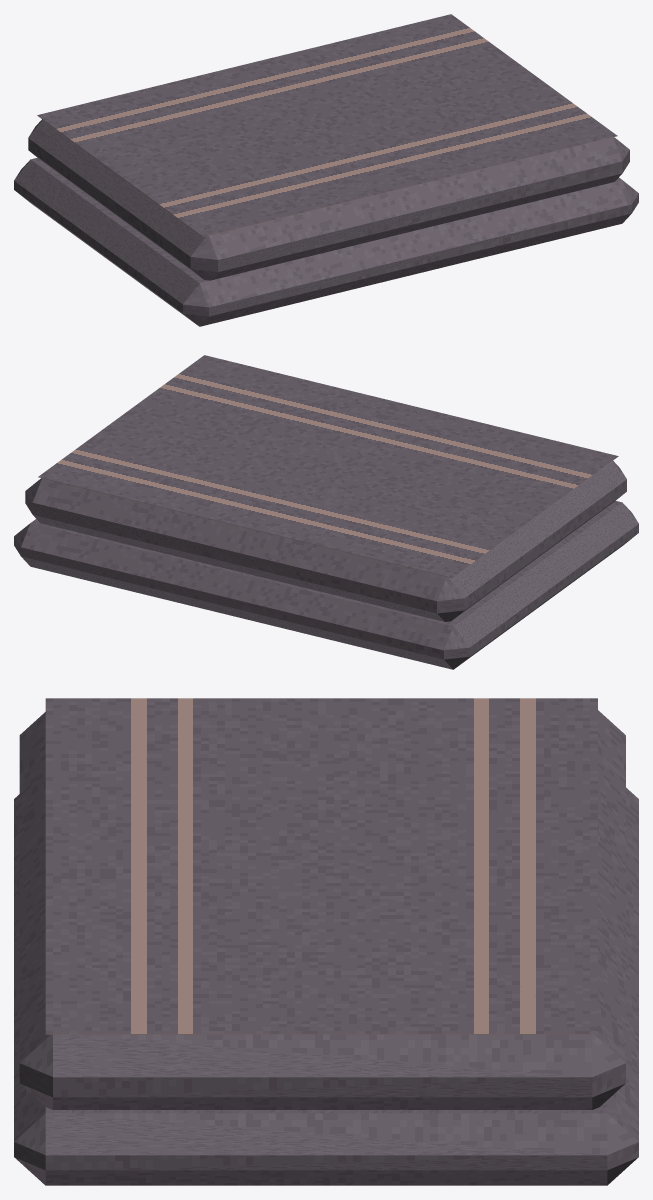
The model's file is blanket.glb.
3 views of the same model, one above another, from view 1: azimuth 30°, elevation 25°; view 2: azimuth 150°, elevation 25°; view 3: azimuth 270°, elevation 25° (orthographic). The views are drawn at different scales.
Visible parts, largest first — view 1: block_woven stripes, block_bottom fold, block_upper fold; view 2: block_woven stripes, block_bottom fold, block_upper fold; view 3: block_woven stripes, block_upper fold, block_bottom fold.
Part boxes in pixels (x1,y1,x2,y2): block_woven stripes: [37, 14, 617, 237]; block_bottom fold: [14, 157, 638, 326]; block_upper fold: [28, 119, 629, 280]; block_woven stripes: [38, 355, 618, 577]; block_bottom fold: [14, 501, 638, 669]; block_upper fold: [25, 461, 626, 621]; block_woven stripes: [45, 698, 597, 1034]; block_upper fold: [19, 710, 625, 1109]; block_bottom fold: [14, 787, 638, 1185].
Bounding box in the file's own units: 0.47 × 0.0877 × 0.336.
1 material, 1 textured.
